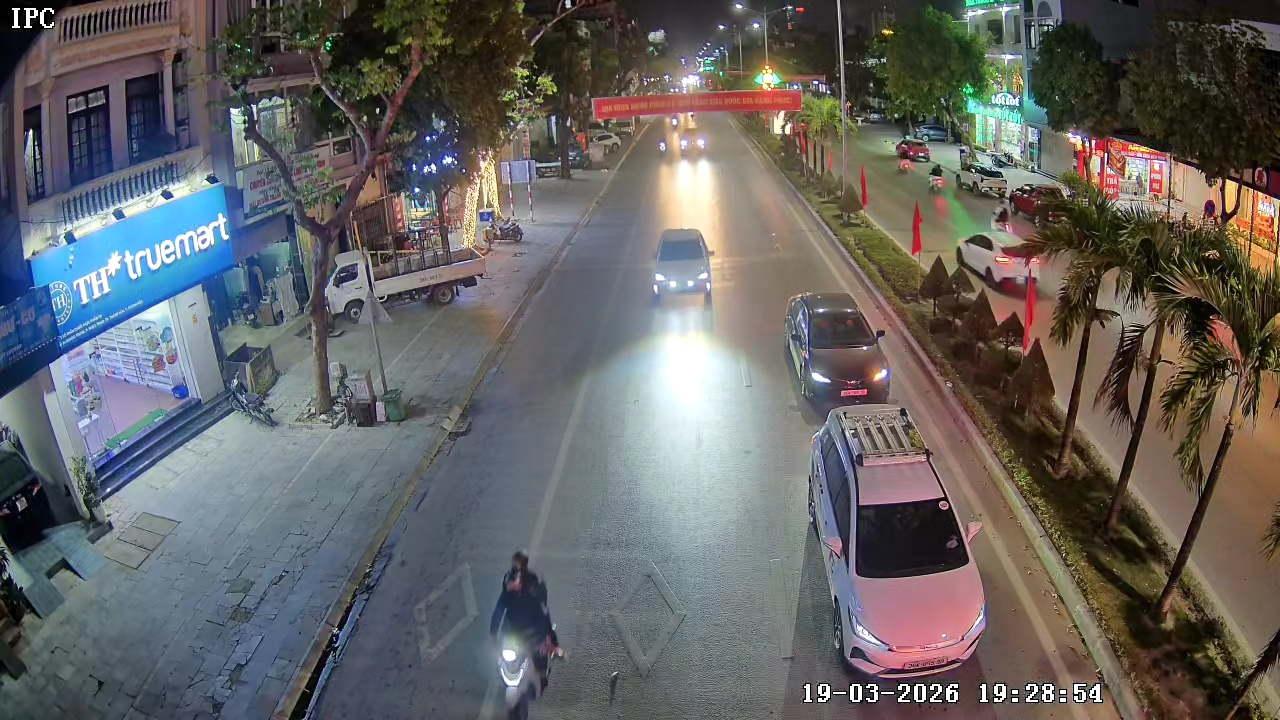car: (804, 402, 992, 713), (782, 290, 891, 403), (956, 216, 1050, 290), (651, 223, 716, 305)
motorbike: (484, 548, 567, 719), (657, 135, 671, 157)
pedestrian: (927, 159, 946, 195)
